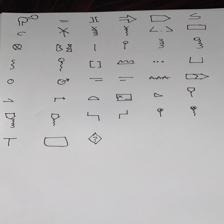aptamer: (17, 14, 38, 27)
assembly-scar: (59, 19, 70, 23)
blunt-restriction-site: (89, 16, 100, 23)
cds: (149, 14, 171, 22)
cds-arrow: (119, 14, 136, 23)
chromosomal-locus: (187, 12, 202, 20)
circular-plasmid: (16, 31, 27, 37)
composite: (149, 25, 174, 33)
dna-stability-element: (186, 86, 196, 97)
engineered-region: (186, 24, 207, 31)
five-prime-overhang: (88, 76, 103, 83)
five-prime-sticky-restriction-site: (86, 111, 101, 122)
halfround-rectangle: (43, 136, 69, 148)
inert-dna-spacer: (12, 43, 23, 51)
intron: (55, 43, 73, 53)
location-dna: (122, 40, 129, 50)
location-dna-no-top: (92, 43, 97, 52)
location-protein: (193, 36, 205, 50)
location-protein-no-top: (158, 38, 166, 49)
location-rna: (57, 57, 65, 72)
location-rna-no-top: (9, 58, 16, 72)
ncrna: (116, 59, 135, 65)
no-glyph-assigned: (89, 59, 102, 70)
nuclease-site: (57, 26, 70, 37)
omitted-detail: (151, 59, 166, 64)
operator: (188, 56, 204, 64)
origin-of-replication: (6, 78, 15, 85)
origin-of-transfer: (56, 77, 70, 86)
polyA: (148, 74, 171, 81)
polypeptide-region: (185, 73, 209, 80)
primer-binding-site: (2, 97, 15, 103)
promoter: (53, 96, 66, 103)
protease-site: (90, 25, 99, 37)
protein-stability-element: (4, 112, 16, 128)
replacement-glyph: (88, 132, 102, 144)
ribonuclease-site: (123, 25, 130, 36)
ribosome-entry-site: (87, 95, 100, 101)
rna-stability-element: (50, 113, 60, 126)
signature: (115, 93, 133, 101)
specific-recombination-site: (153, 92, 164, 98)
terminator: (2, 137, 17, 147)
three-prime-overhang: (118, 76, 135, 82)
three-prime-sticky-restriction-site: (118, 109, 129, 120)
transcription-end: (156, 108, 164, 117)
translation-end: (190, 105, 198, 117)
